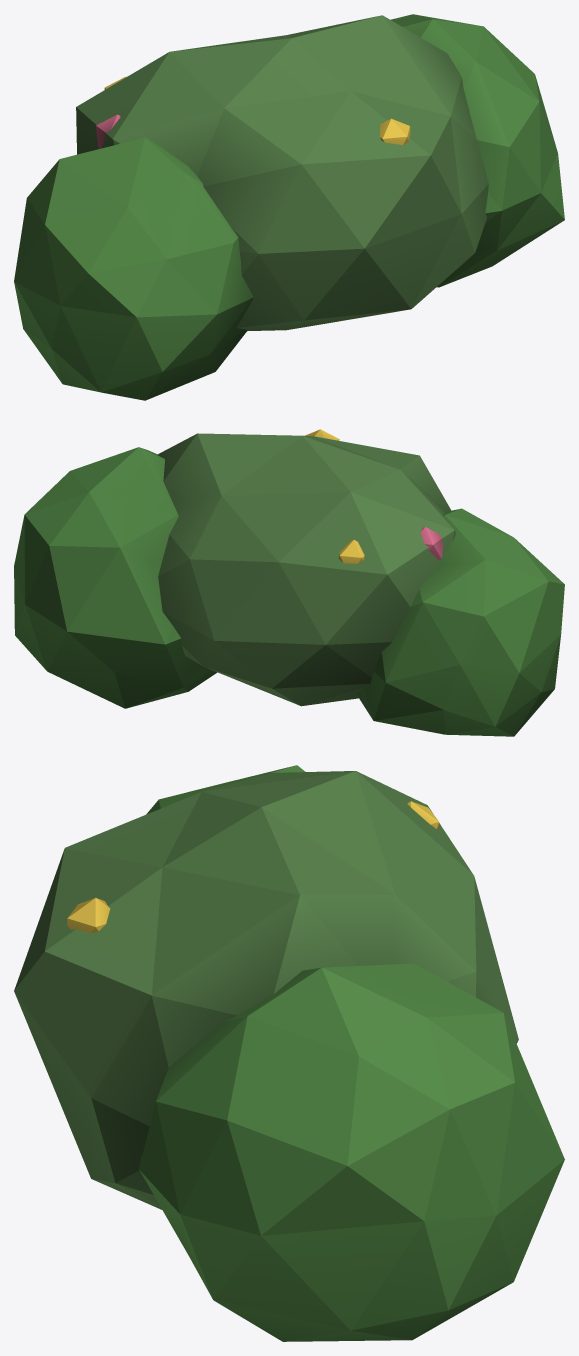
Rendered from bush_a.glb.
3 views of the same model, one above another, from view 1: azimuth 30°, elevation 25°; view 2: azimuth 150°, elevation 25°; view 3: azimuth 270°, elevation 25° (orthographic). The views are drawn at different scales.
Parts seen in each view (by area): view 1: Bush; view 2: Bush; view 3: Bush.
Part boxes in pixels (<box>): Bush: <box>14,14,564,400</box>; Bush: <box>14,429,564,736</box>; Bush: <box>14,765,564,1341</box>.
Size of the model in its own units: 2.05 by 1.05 by 1.32.
Materials: 1 (1 with a texture image).
